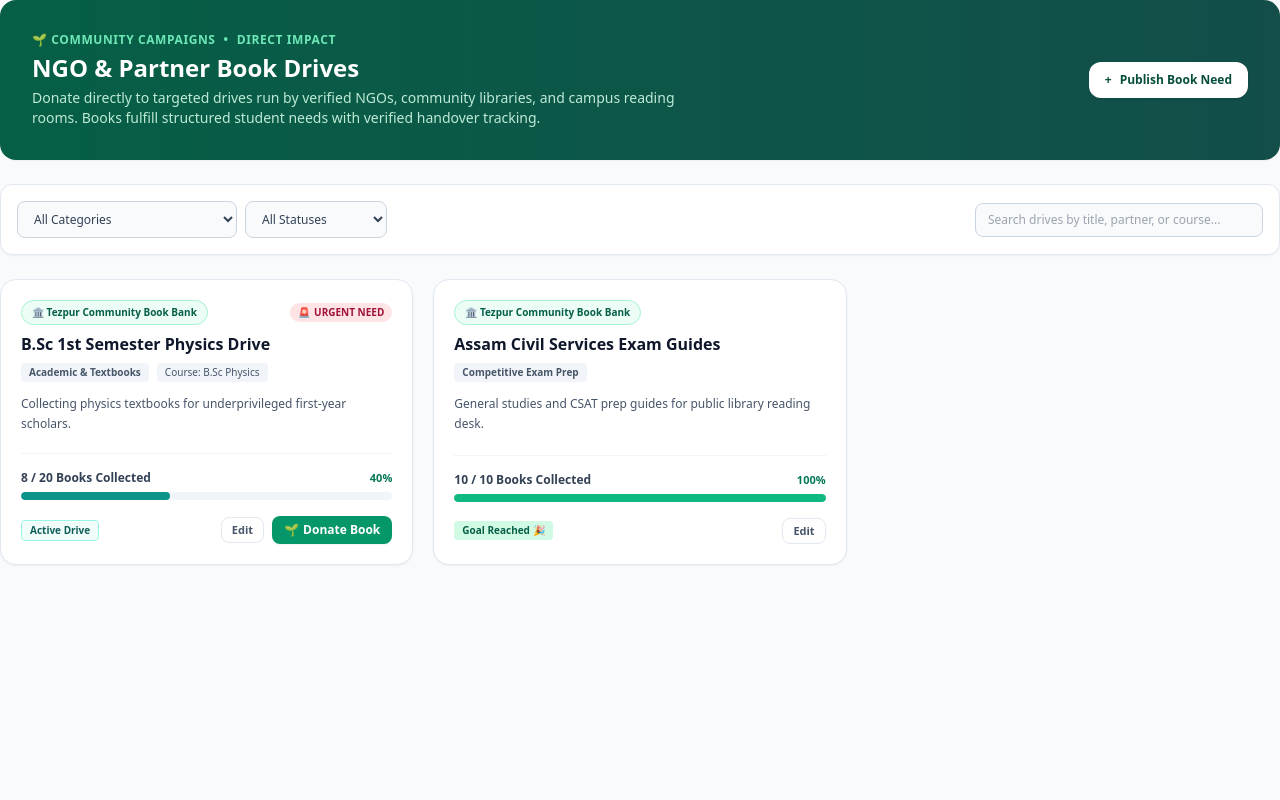
CampaignNeedsView Component (CS-014 NGO Book Needs) › allows admin to publish a new book campaign need
Later steps or results of the test are not shown.
# Open create modal
Click the button with test id "open-create-need-btn" at [1168, 80], box [1089, 62, 1248, 98]
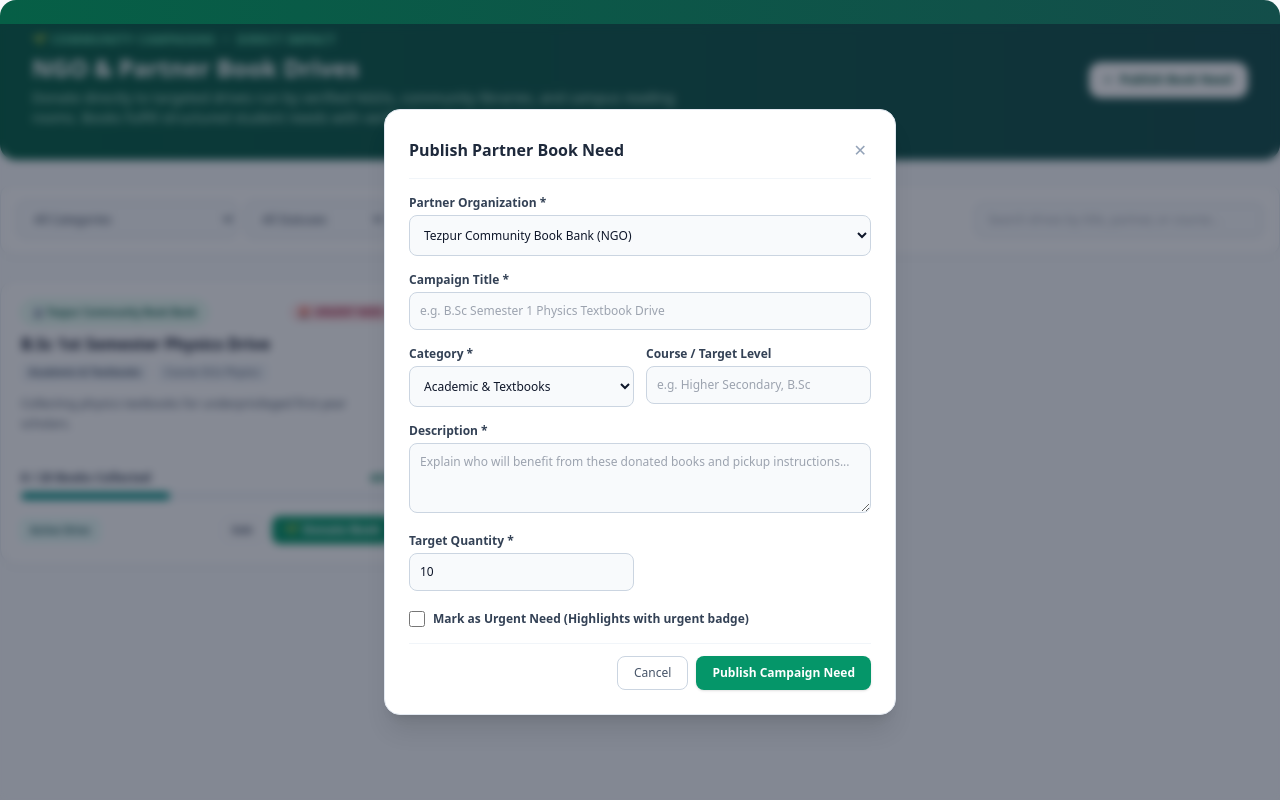
Expected: the element with test id "campaign-need-modal" is shown
